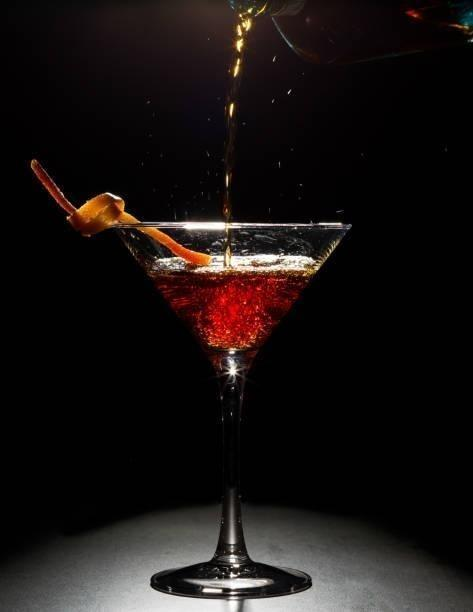glass-wine: (108, 213, 353, 601)
